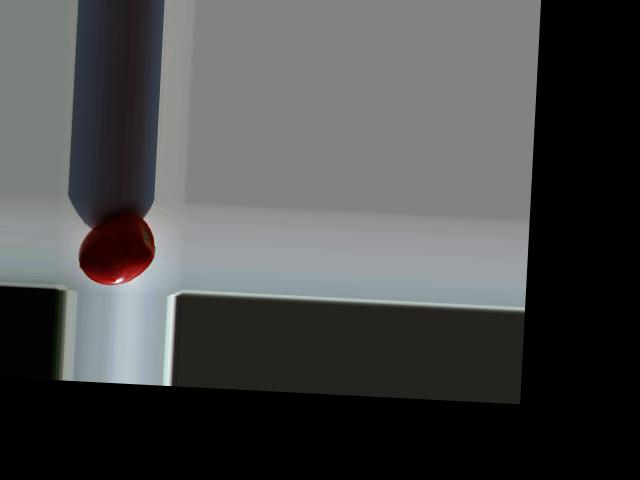tomato: (77, 211, 156, 287)
